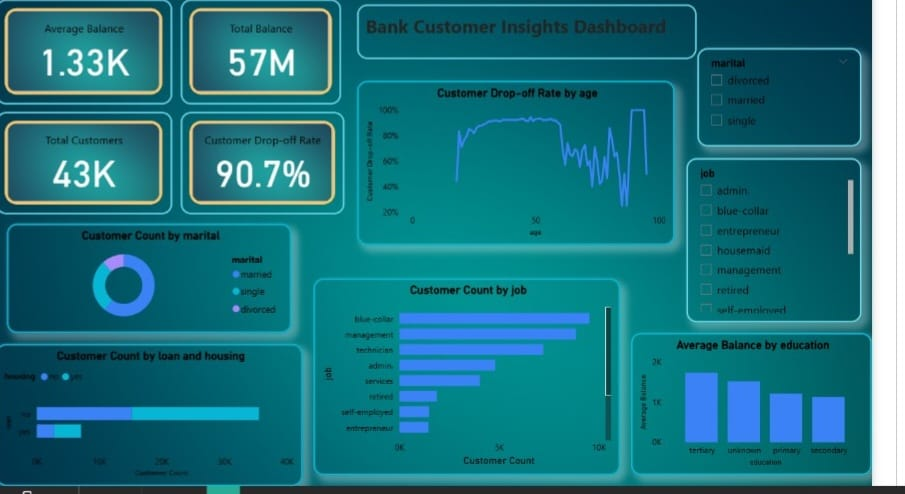

What the dashboard file says about the page in this screenshot:
{"tool":"powerbi","page":{"name":"Page 1","canvas":[1280,720],"ordinal":0},"visuals":[{"type":"cardVisual","fields":{"Data":["BankCustomerData.Average Balance"]},"box":[0,8.6,257.7,153.4],"z":0},{"type":"cardVisual","fields":{"Data":["BankCustomerData.Customer Drop-off Rate"]},"box":[269.9,173,239.3,149.7],"z":1000},{"type":"cardVisual","fields":{"Data":["BankCustomerData.Total Balance"]},"box":[269.9,8.6,234.4,153.4],"z":2000},{"type":"cardVisual","fields":{"Data":["BankCustomerData.Total Customers"]},"box":[0,173,257.7,149.7],"z":3000},{"type":"clusteredColumnChart","fields":{"Category":["BankCustomerData.education"],"Y":["BankCustomerData.Average Balance"]},"box":[928,496,352,208],"z":4000},{"type":"donutChart","fields":{"Category":["BankCustomerData.marital"],"Y":["BankCustomerData.Customer Count"]},"box":[16,336,416,160],"z":5000},{"type":"barChart","fields":{"Category":["BankCustomerData.loan"],"Series":["BankCustomerData.housing"],"Y":["BankCustomerData.Customer Count"]},"box":[0,512,448,208],"z":6000},{"type":"lineChart","fields":{"Category":["BankCustomerData.age"],"Y":["BankCustomerData.Customer Drop-off Rate"]},"box":[528,128,464,240],"z":7000},{"type":"clusteredBarChart","fields":{"Category":["BankCustomerData.job"],"Y":["BankCustomerData.Customer Count"]},"box":[464,416,448,288],"z":8000},{"type":"slicer","fields":{"Values":["BankCustomerData.job"]},"box":[1008,240,256,240],"z":9000},{"type":"slicer","fields":{"Values":["BankCustomerData.marital"]},"box":[1024,80,240,144],"z":10000},{"type":"textbox","box":[528,16,496,80],"z":11000}]}

Visuals, with their boxes on the page's 1280x720 design canvas (x1, y1, x2, y2). These are canvas units, not pixel positions in the 905x494 screenshot, which may show the page scaled, cropped or inside an application window:
cardVisual - BankCustomerData.Average Balance: box=[0, 9, 258, 162]
cardVisual - BankCustomerData.Customer Drop-off Rate: box=[270, 173, 509, 323]
cardVisual - BankCustomerData.Total Balance: box=[270, 9, 504, 162]
cardVisual - BankCustomerData.Total Customers: box=[0, 173, 258, 323]
clusteredColumnChart - BankCustomerData.education x BankCustomerData.Average Balance: box=[928, 496, 1280, 704]
donutChart - BankCustomerData.marital x BankCustomerData.Customer Count: box=[16, 336, 432, 496]
barChart - BankCustomerData.loan x BankCustomerData.housing: box=[0, 512, 448, 720]
lineChart - BankCustomerData.age x BankCustomerData.Customer Drop-off Rate: box=[528, 128, 992, 368]
clusteredBarChart - BankCustomerData.job x BankCustomerData.Customer Count: box=[464, 416, 912, 704]
slicer - BankCustomerData.job: box=[1008, 240, 1264, 480]
slicer - BankCustomerData.marital: box=[1024, 80, 1264, 224]
textbox: box=[528, 16, 1024, 96]
